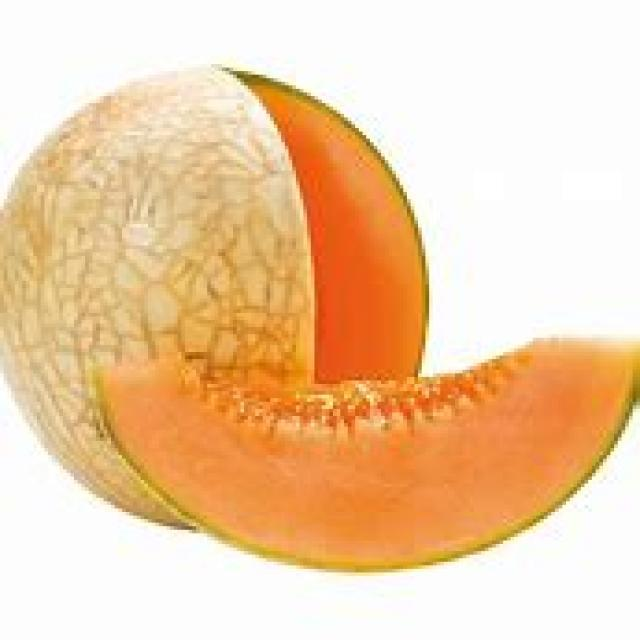Hami Melon: (3, 66, 432, 529)
